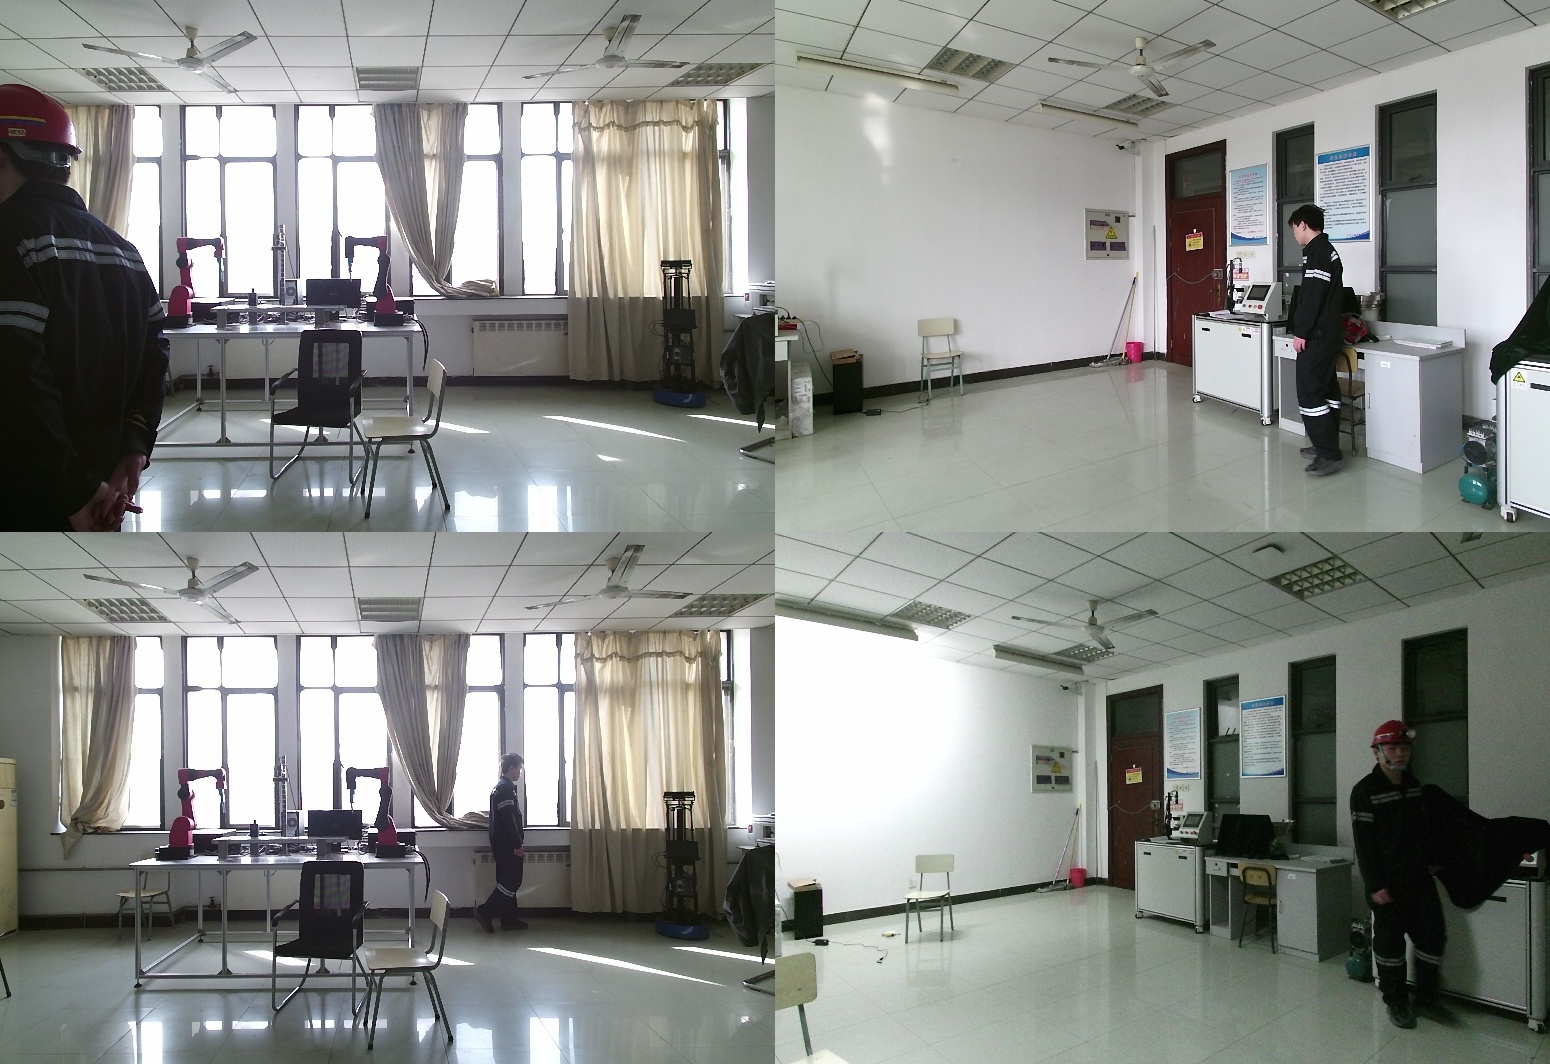person: (1, 83, 168, 532), (1349, 721, 1442, 1028), (1295, 211, 1384, 475), (464, 752, 529, 940)
